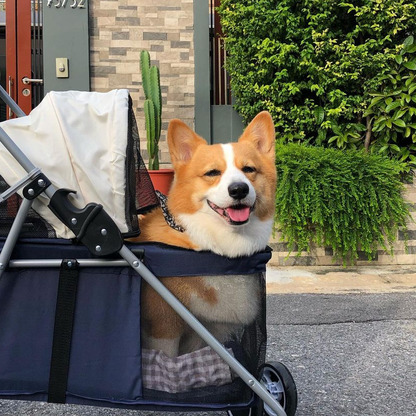Corgi: (136, 107, 287, 314)
